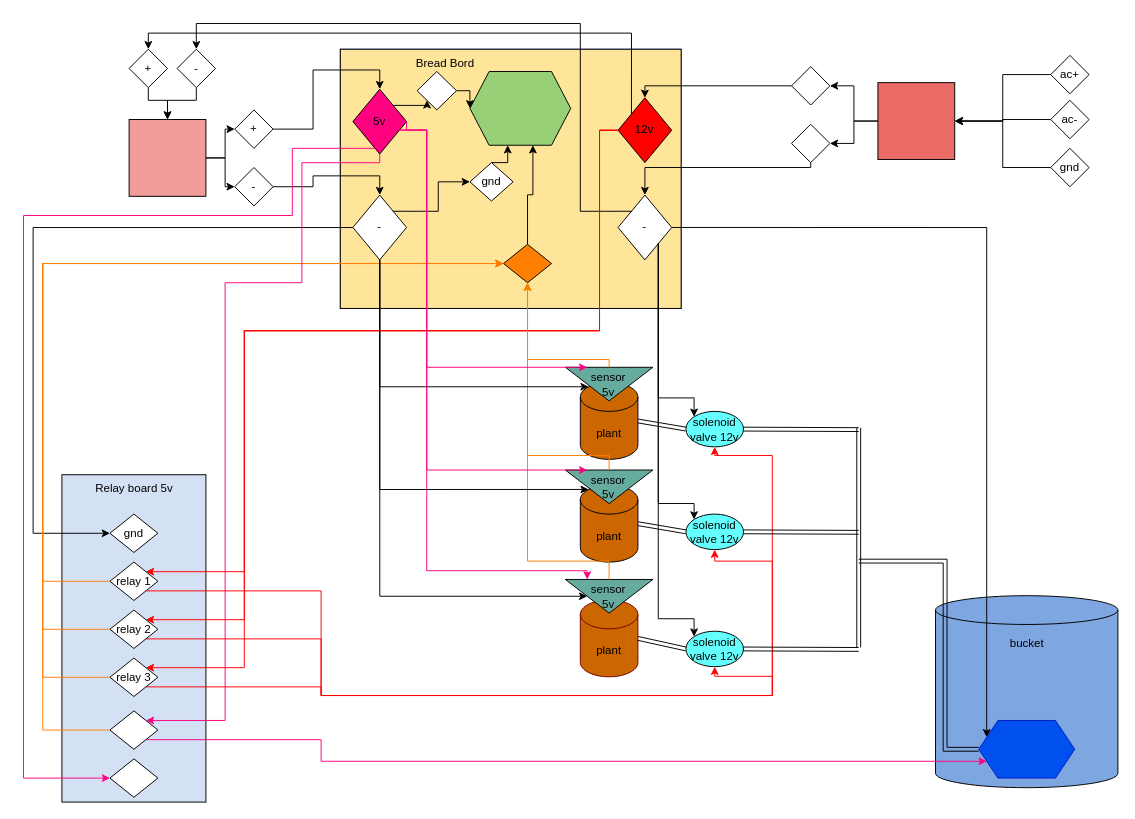
This 1135x819 diagram has some shape labels left out. Here are the shapes that lost their labels. From the top down, the centre of each, then its label:
(436,90): vsys
(810,85): dc+
(520,108): raspberry pi pico
(916,120): 12v 2a 25w power supply
(167,157): 12v to 5v 5a converter
(810,143): dc-
(527,263): gpio
(133,729): relay 4
(1026,749): water pump 5v
(133,777): vcc
